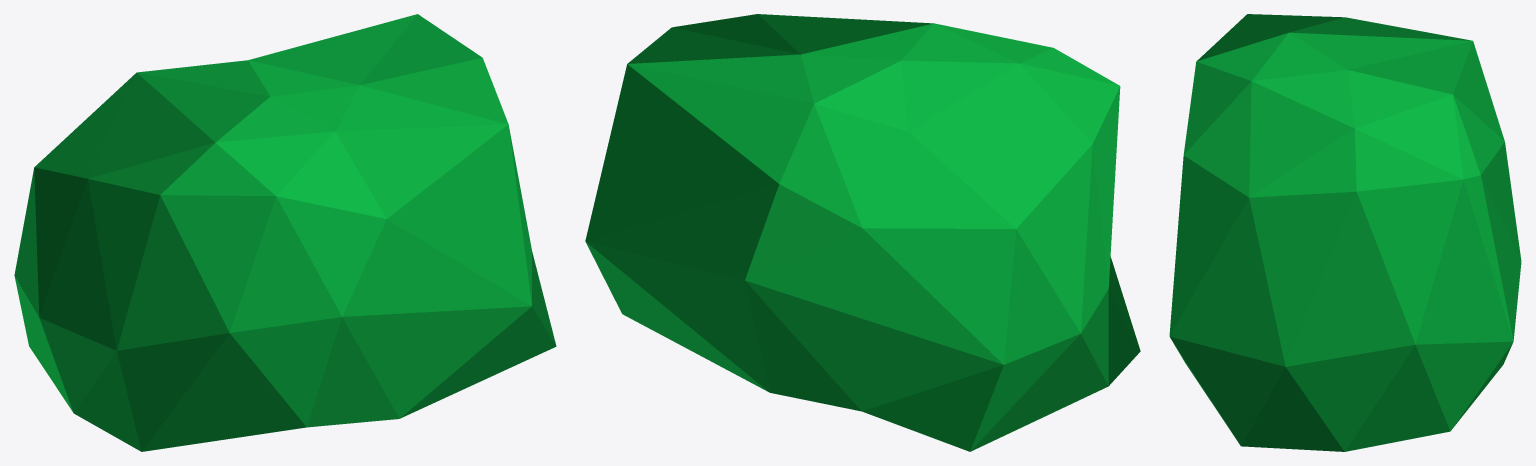
Rendered from Arbusto.obj.
3 renders of one model, left to right at view 1: azimuth 30°, elevation 25°; view 2: azimuth 150°, elevation 25°; view 3: azimuth 270°, elevation 25°, orthographic. The views are drawn at different scales.
Parts seen in each view (by area): view 1: NatureFreePack1:Bush2 NatureFreePack1:NaturePack; view 2: NatureFreePack1:Bush2 NatureFreePack1:NaturePack; view 3: NatureFreePack1:Bush2 NatureFreePack1:NaturePack.
Part boxes in pixels (x1,y1,x2,y2): NatureFreePack1:Bush2 NatureFreePack1:NaturePack: (14,14,556,451); NatureFreePack1:Bush2 NatureFreePack1:NaturePack: (585,14,1140,451); NatureFreePack1:Bush2 NatureFreePack1:NaturePack: (1169,14,1521,451).
Size of the model in its own units: 2.49 by 1.59 by 1.76.
Materials: 1 (1 with a texture image).
